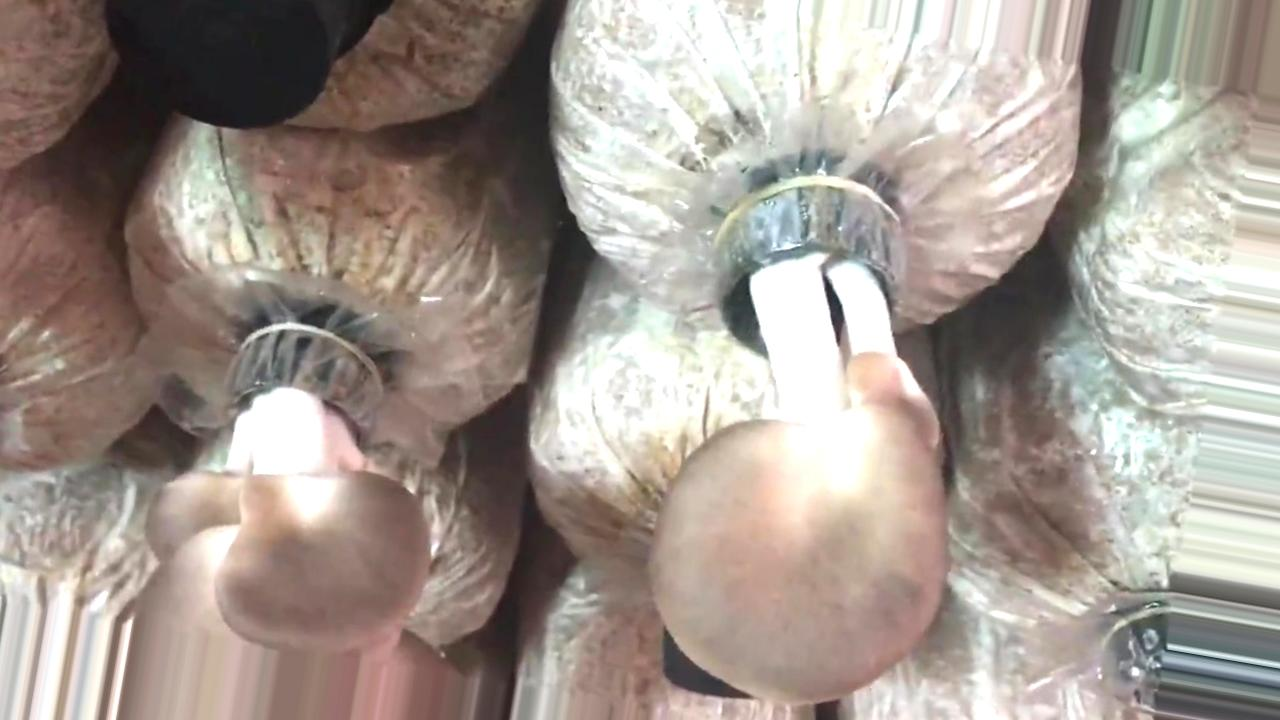nam: (654, 182, 950, 699), (126, 328, 466, 720)
